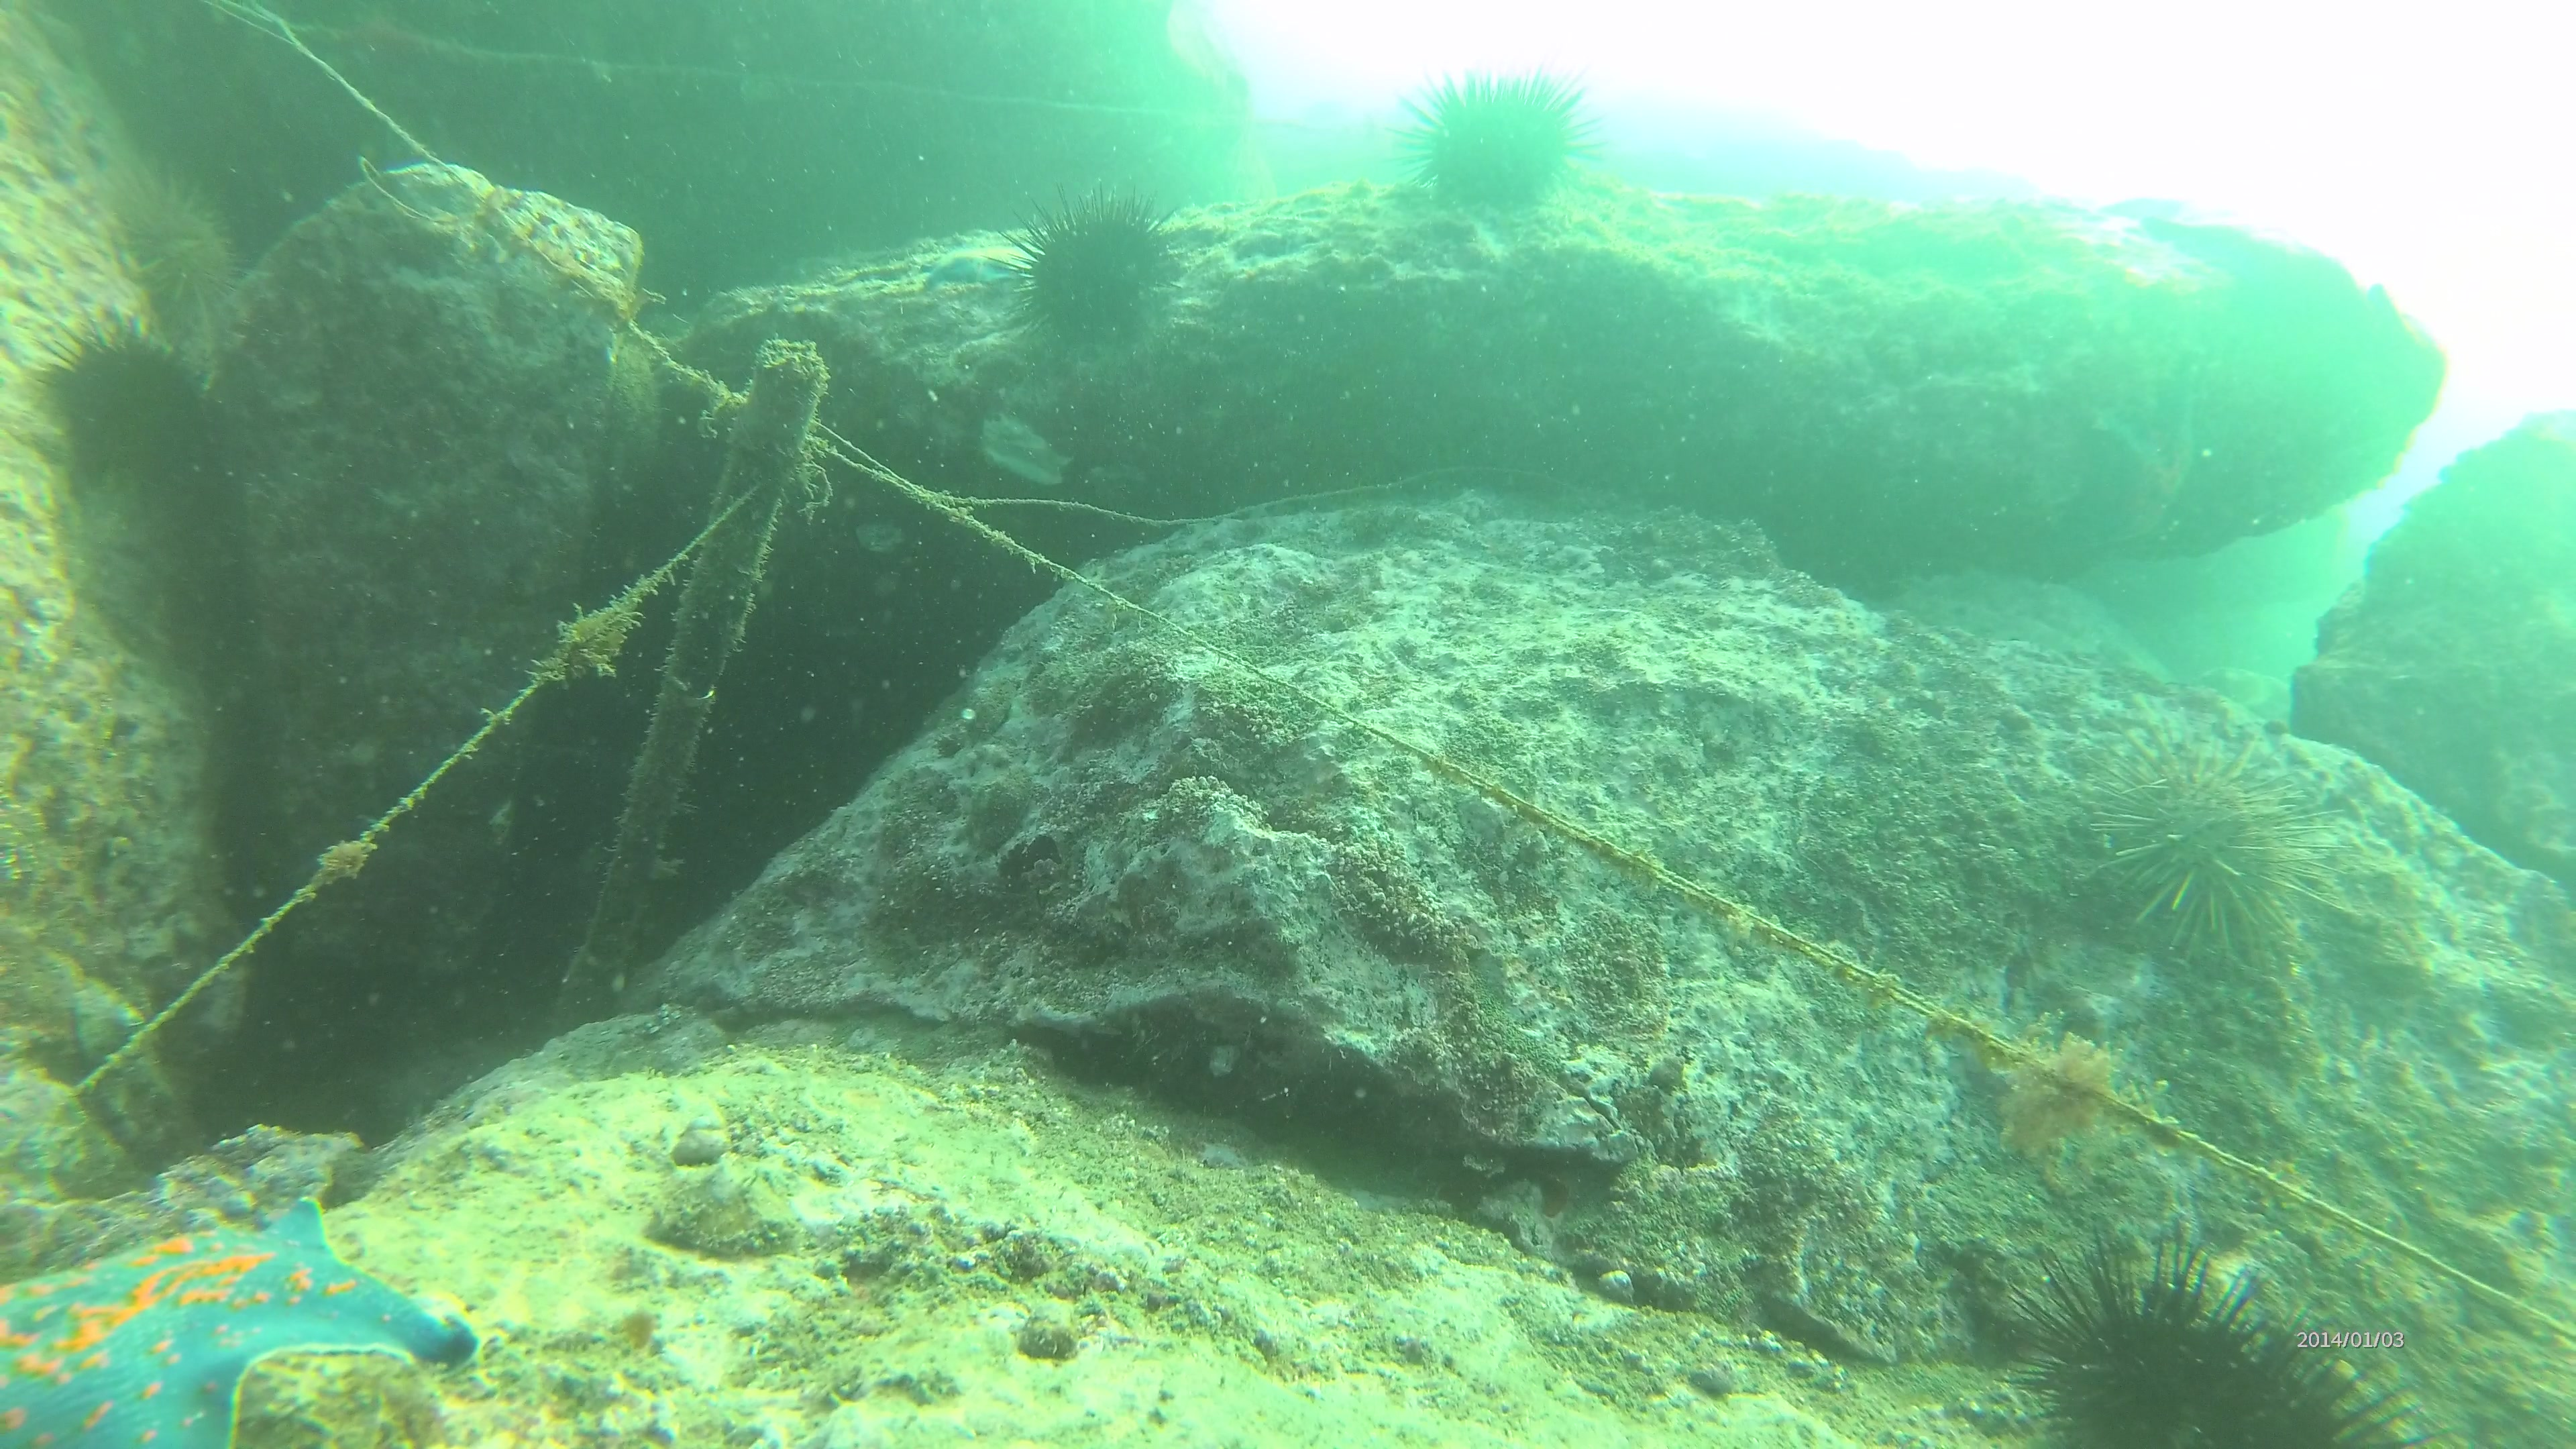echinus: (2029, 1253, 2311, 1449), (2097, 754, 2309, 952), (50, 326, 226, 494), (1414, 69, 1583, 219), (119, 165, 244, 336), (1019, 195, 1171, 331)
starfish: (2, 1191, 487, 1449), (920, 232, 1039, 308)
